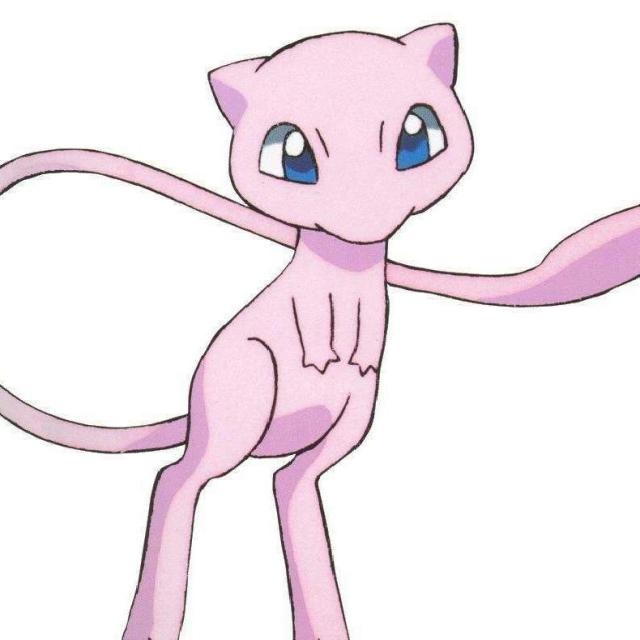Mew: (182, 22, 479, 490)
